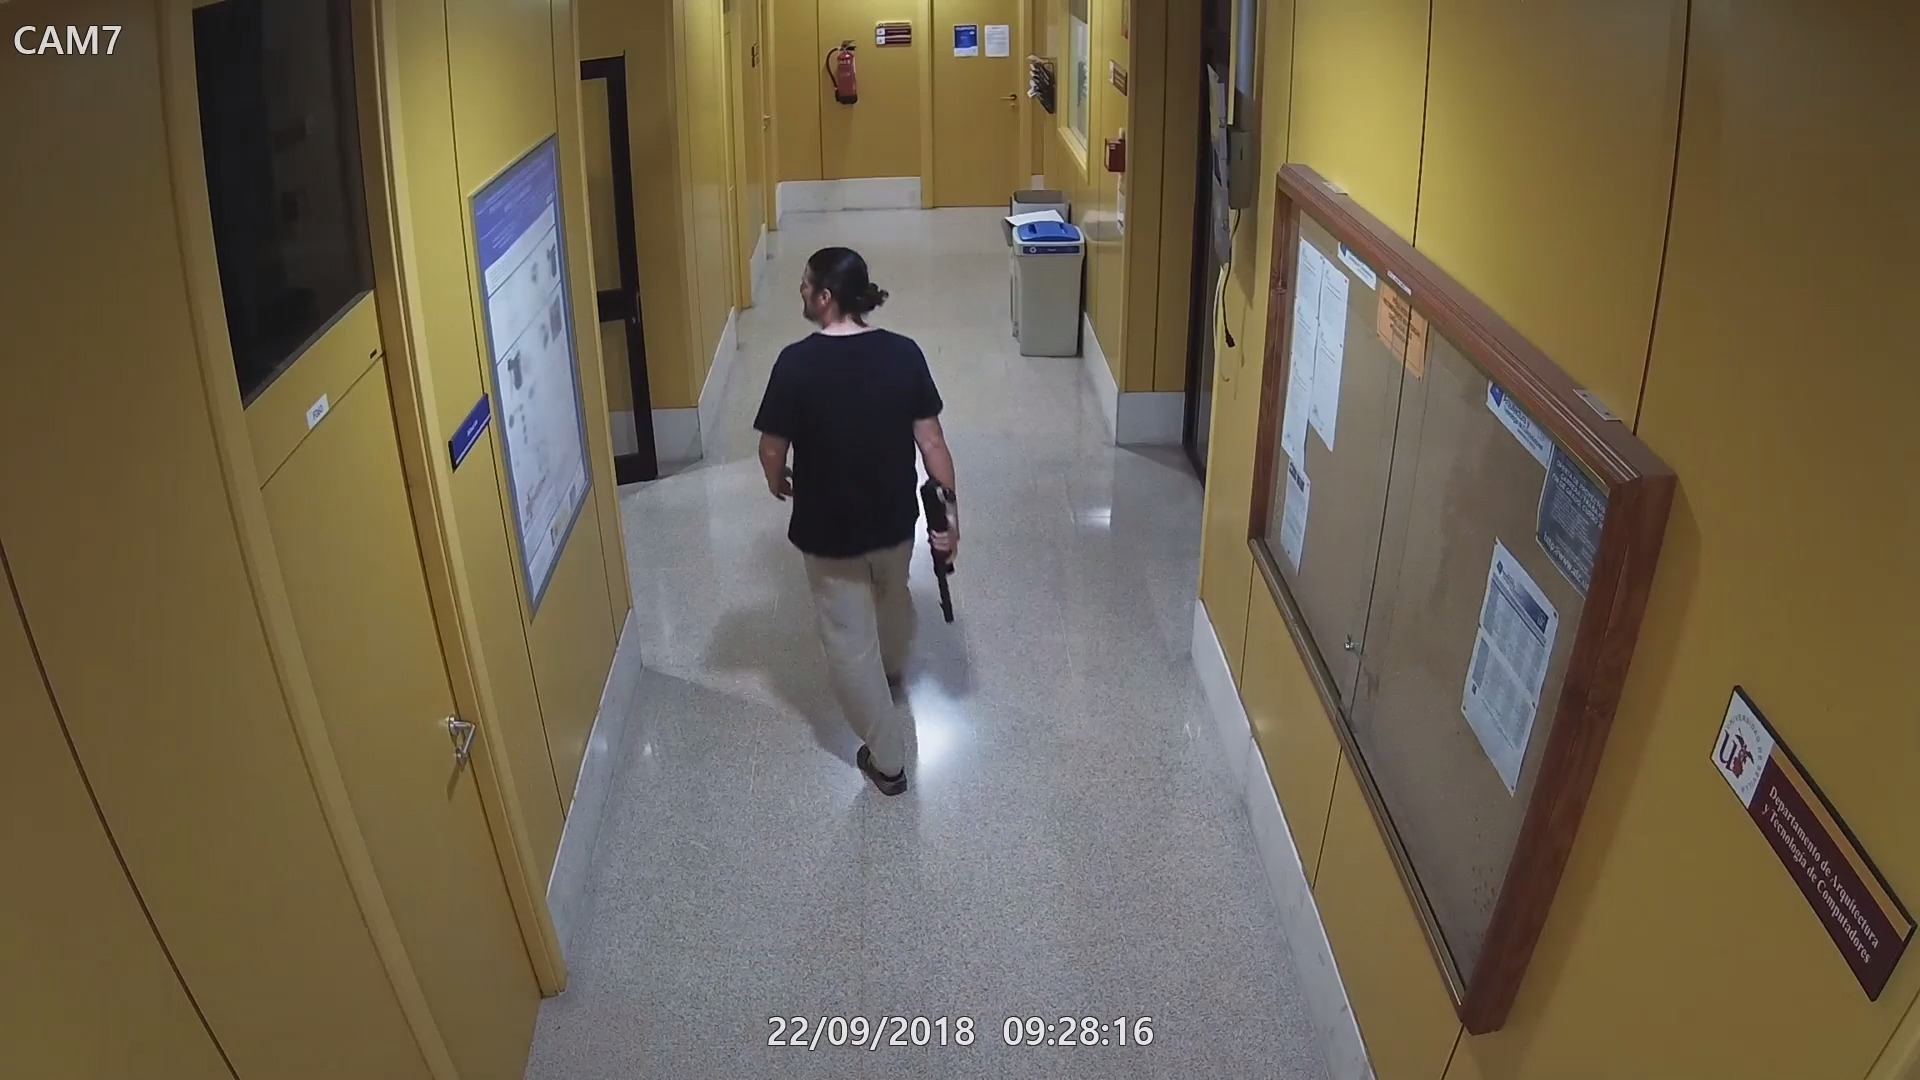Short_rifle: (916, 475, 959, 625)
